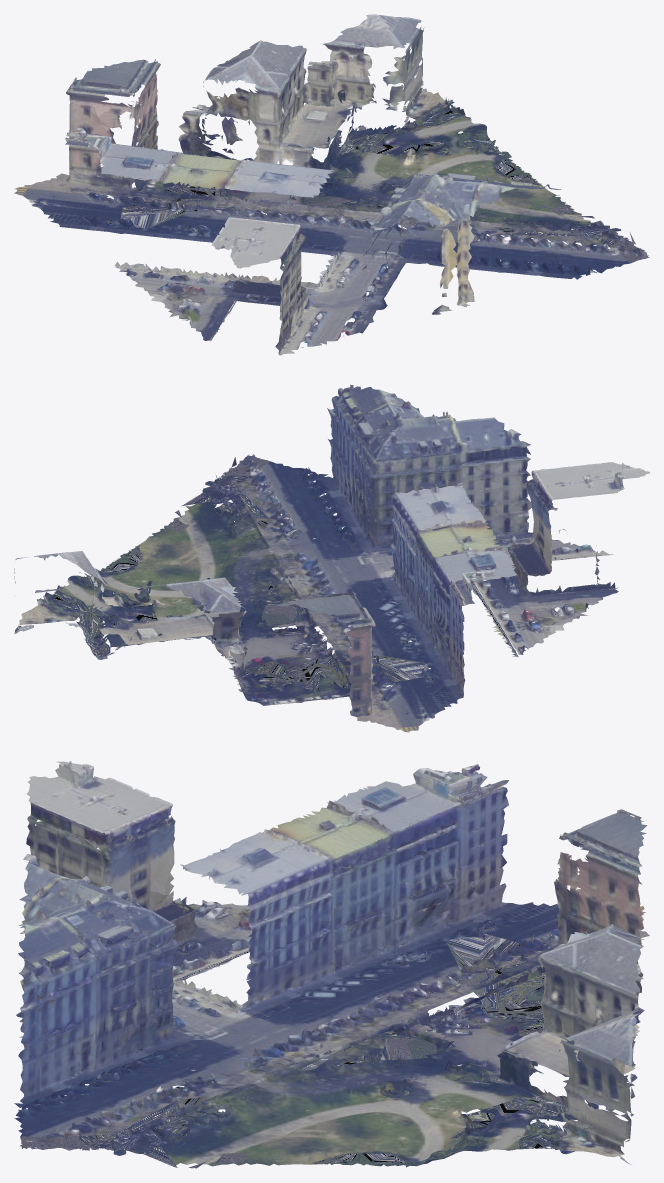
3 views of the same model, one above another, from view 1: azimuth 30°, elevation 25°; view 2: azimuth 150°, elevation 25°; view 3: azimuth 270°, elevation 25° (orthographic). The views are drawn at different scales.
Size of the model in its own units: 105 by 31.26 by 104.
1 material, 1 textured.
